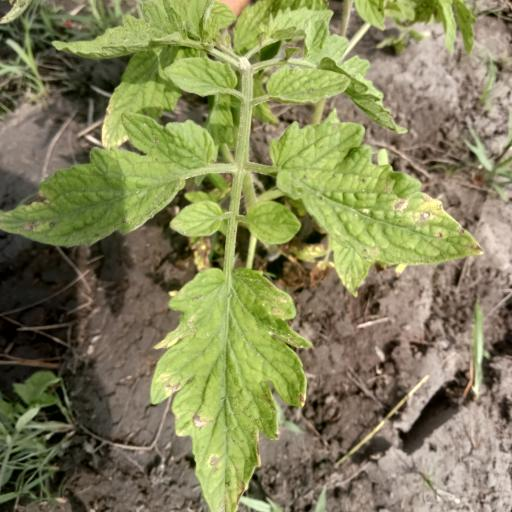Tomato_Brown_Spots: (147, 258, 313, 512), (265, 116, 483, 296), (0, 108, 220, 250)
